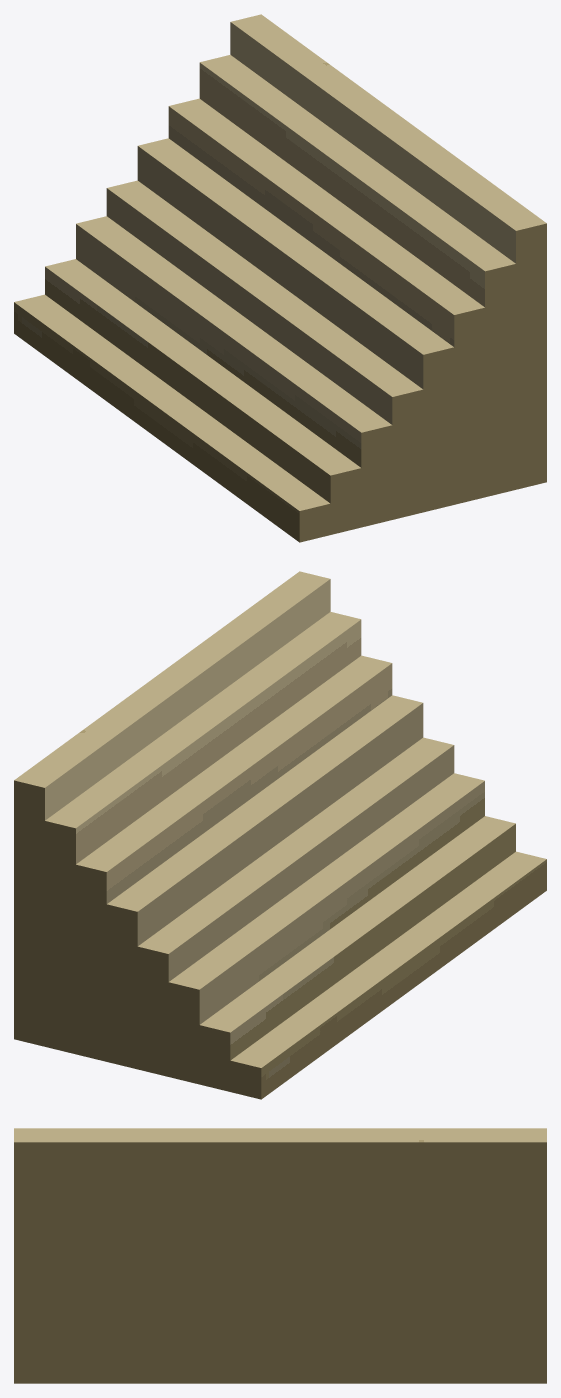
File: escalier.glb
3 views of the same model, one above another, from view 1: azimuth 30°, elevation 25°; view 2: azimuth 150°, elevation 25°; view 3: azimuth 270°, elevation 25° (orthographic). The views are drawn at different scales.
Visible parts, largest first — view 1: Cube; view 2: Cube; view 3: Cube.
Boxes of the visible parts, x1,y1,x2,y2 form: Cube: (14, 14, 546, 542); Cube: (14, 571, 546, 1099); Cube: (14, 1128, 546, 1383).
Bounding box in the file's own units: 1 × 1 × 2.
Materials: 1 (1 with a texture image).
